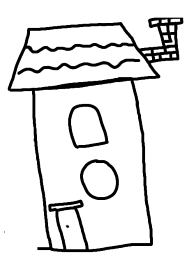big_house: (2, 1, 192, 260)
chimney: (130, 11, 188, 71)
door: (47, 194, 93, 255)
open_window: (60, 99, 110, 152), (78, 156, 121, 204)
roof: (6, 20, 170, 96)
wall: (21, 73, 157, 255)
